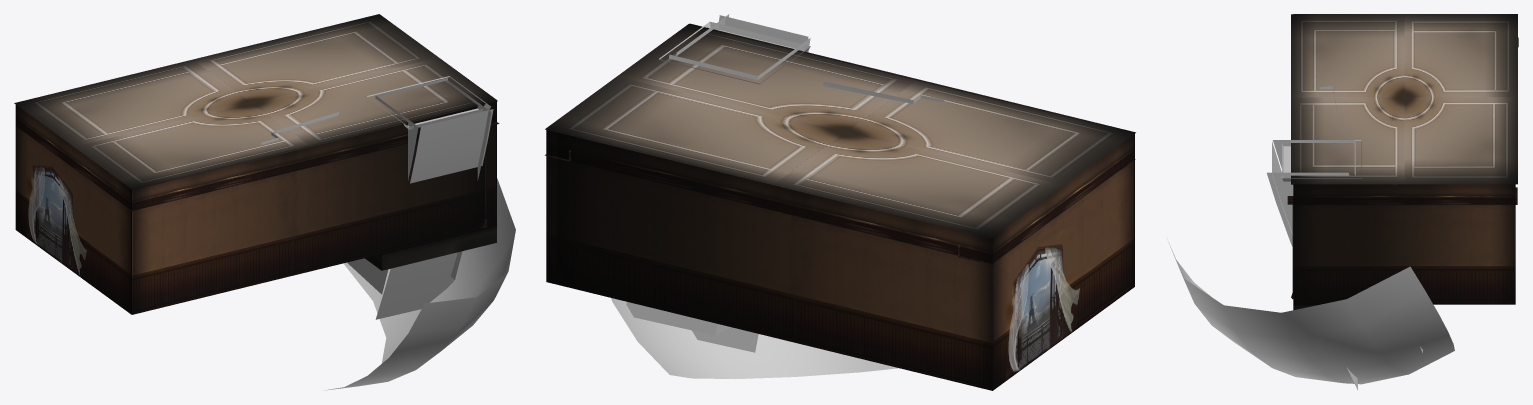
File: lab_cafe.fbx
The picture shows the model from 3 angles, left to right: view 1: azimuth 30°, elevation 25°; view 2: azimuth 150°, elevation 25°; view 3: azimuth 270°, elevation 25°; orthographic projection. The views are drawn at different scales.
Parts seen in each view (by area): view 1: VRJ_Room, VRJ_Ceiling, VRJ_Skybox, VRJ_TowerLeg, VRJ_SparEndcap_Ceiling; view 2: VRJ_Room, VRJ_Ceiling, VRJ_Skybox, VRJ_TowerLeg, VRJ_SparEndcap_Ceiling, VRJ_Labbench; view 3: VRJ_Ceiling, VRJ_Room, VRJ_Skybox, VRJ_TowerLeg, VRJ_SparEndcap_Ceiling.
Part boxes in pixels (x1=…): VRJ_Room: x1=15, y1=36, x2=496, y2=314; VRJ_Ceiling: x1=14, y1=14, x2=497, y2=190; VRJ_Skybox: x1=324, y1=178, x2=515, y2=390; VRJ_TowerLeg: x1=347, y1=78, x2=493, y2=319; VRJ_SparEndcap_Ceiling: x1=367, y1=76, x2=491, y2=129; VRJ_Room: x1=546, y1=24, x2=1134, y2=390; VRJ_Ceiling: x1=545, y1=23, x2=1135, y2=238; VRJ_Skybox: x1=611, y1=298, x2=898, y2=379; VRJ_TowerLeg: x1=626, y1=14, x2=810, y2=352; VRJ_SparEndcap_Ceiling: x1=659, y1=21, x2=810, y2=84; VRJ_Labbench: x1=823, y1=81, x2=943, y2=103; VRJ_Ceiling: x1=1291, y1=14, x2=1517, y2=184; VRJ_Room: x1=1293, y1=14, x2=1515, y2=310; VRJ_Skybox: x1=1168, y1=241, x2=1454, y2=384; VRJ_TowerLeg: x1=1267, y1=140, x2=1422, y2=390; VRJ_SparEndcap_Ceiling: x1=1282, y1=140, x2=1361, y2=181.
Size of the model in its own units: 40.21 by 25.03 by 32.69.
